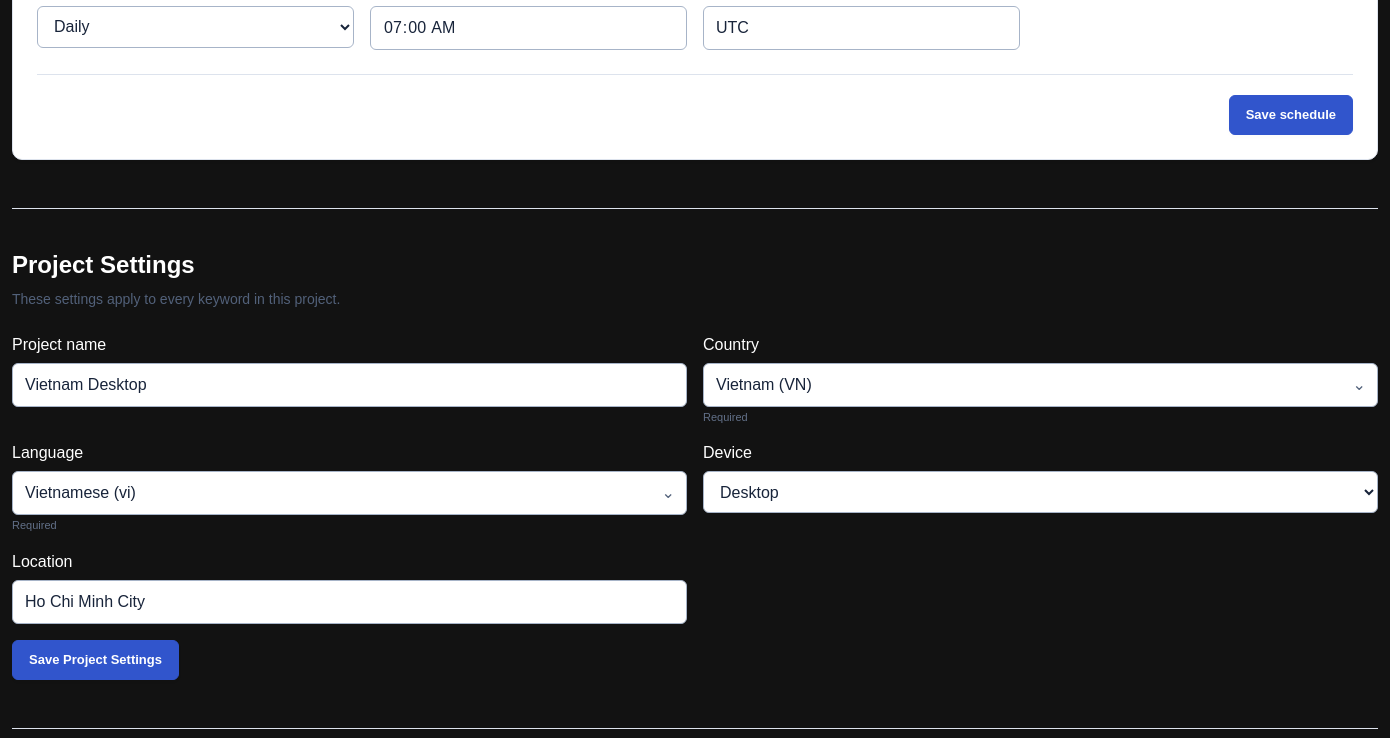
Test: updates Project SERP settings without default fields
(page scrolled)
Replace the text in the field labelled "Project name" with "Renamed" at (350, 385), box [12,363,687,407]
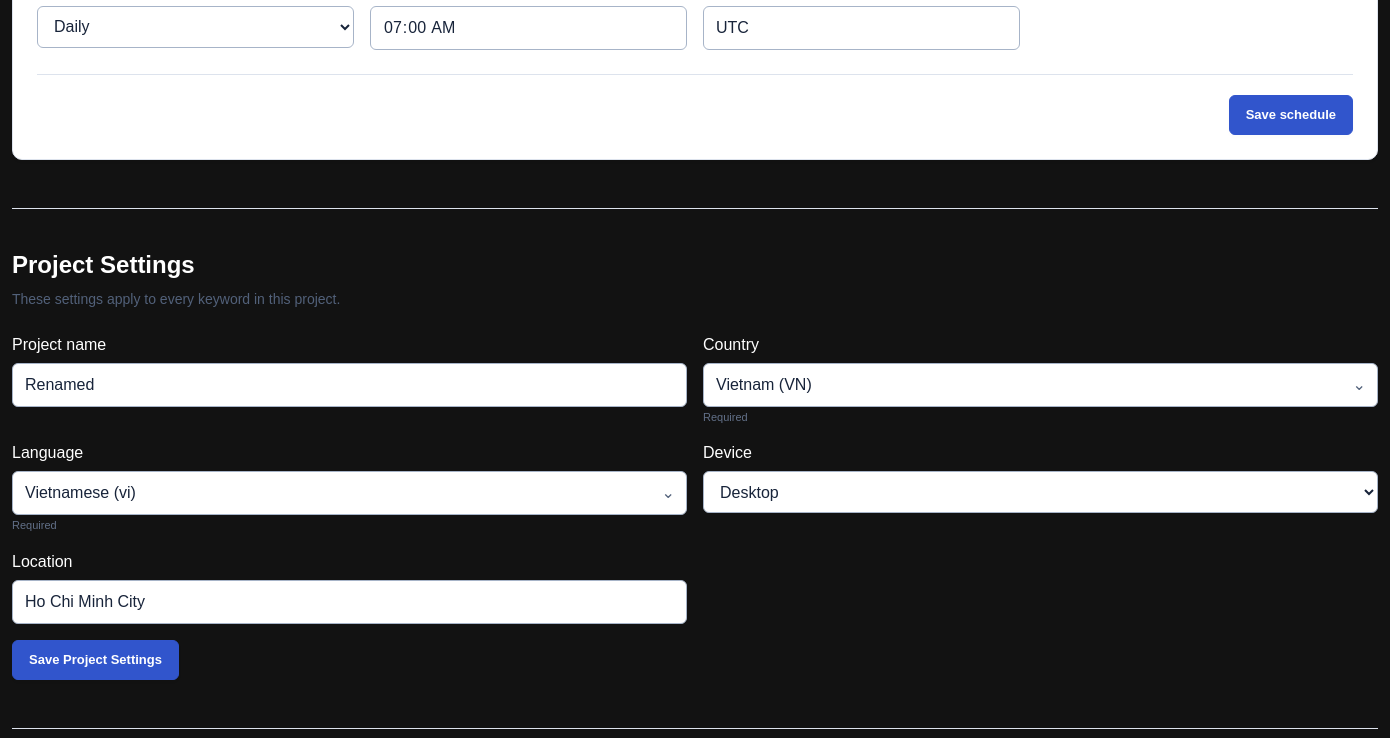
Submit the form named "Project settings", box [12,333,1378,680]
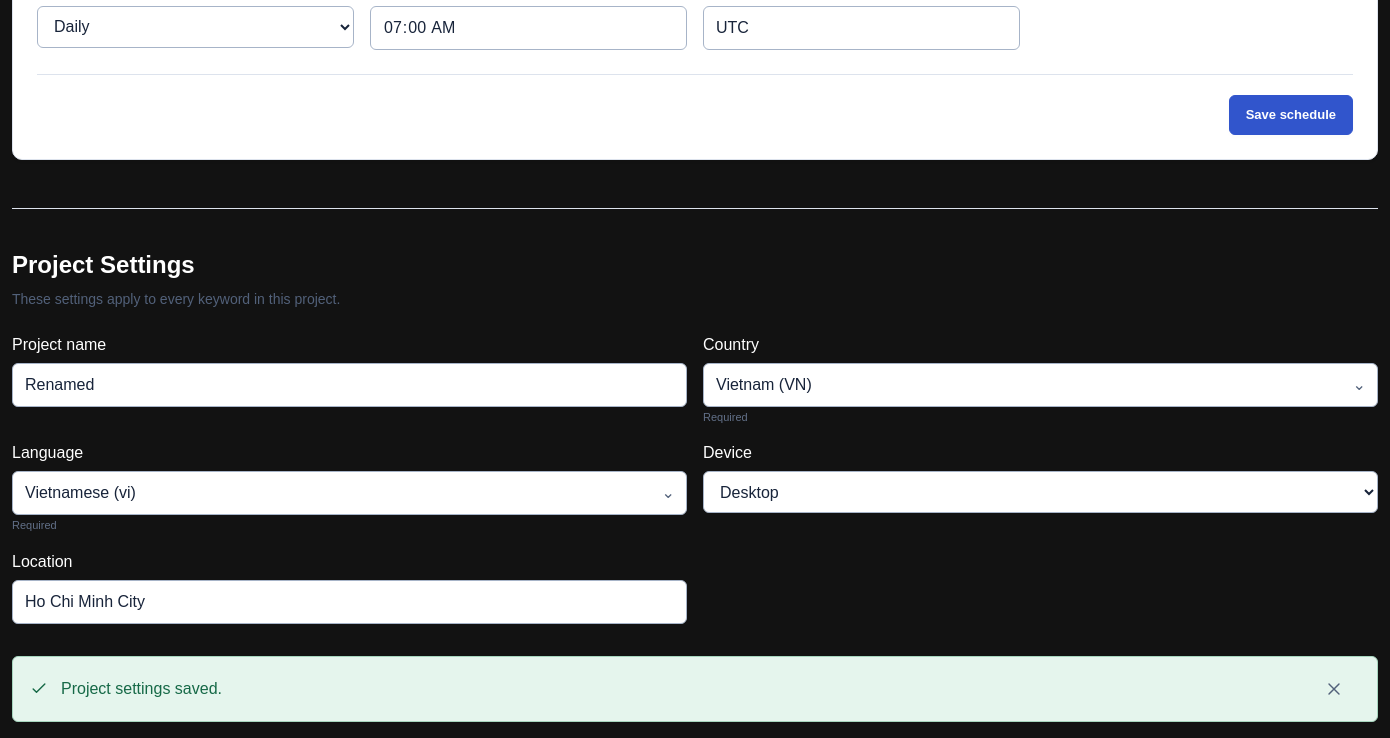
Now the text "Project settings saved." is shown, box [12,656,1378,722]
